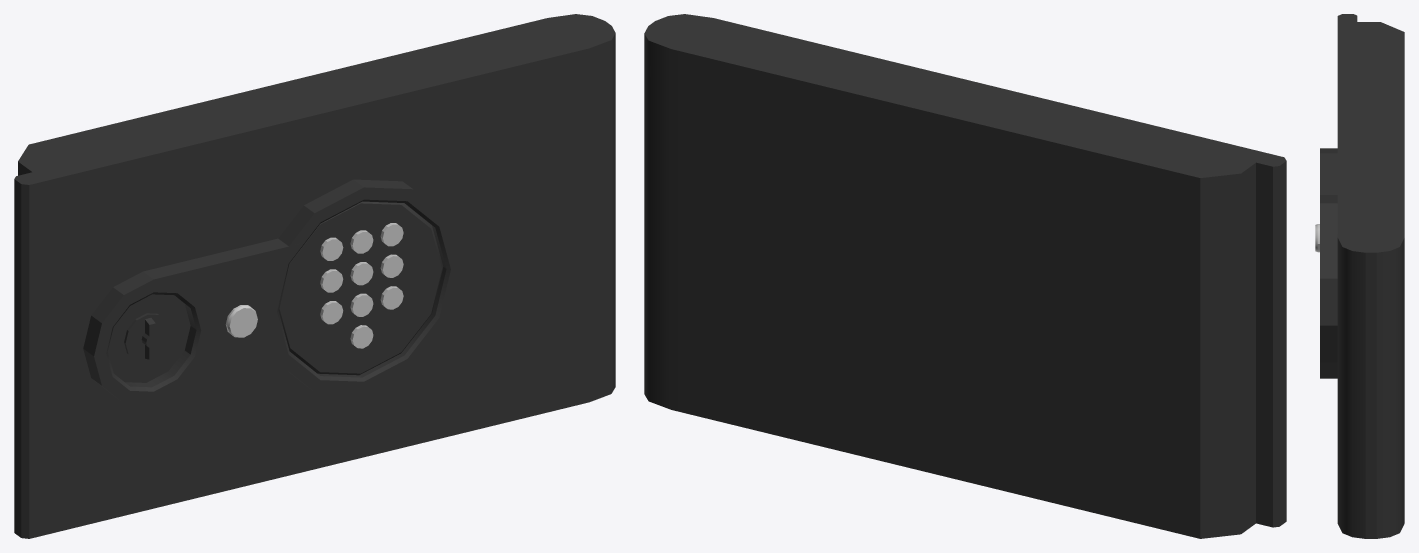
Rendered from Safe_Door.fbx.
3 renders of one model, left to right at view 1: azimuth 30°, elevation 25°; view 2: azimuth 150°, elevation 25°; view 3: azimuth 270°, elevation 25°, orthographic. The views are drawn at different scales.
Parts seen in each view (by area): view 1: pasted__pCube2, pasted__pPipe1, pasted__pCylinder1, pasted__pPipe2, pasted__pCylinder2, pasted__pCylinder16; view 2: pasted__pCube2; view 3: pasted__pCube2, pasted__pPipe2, pasted__pPipe1, pasted__pCylinder16.
Part boxes in pixels (x1,y1,x2,y2): pasted__pCube2: (14,14,615,538); pasted__pPipe1: (83,238,300,404); pasted__pCylinder1: (278,201,443,375); pasted__pPipe2: (275,179,462,393); pasted__pCylinder2: (107,294,190,382); pasted__pCylinder16: (225,305,257,337); pasted__pCube2: (644,14,1286,538); pasted__pCube2: (1337,14,1404,538); pasted__pPipe2: (1320,195,1337,378); pasted__pPipe1: (1320,148,1337,194); pasted__pCylinder16: (1315,224,1319,252).
Bounding box in the file's own units: 1.42 × 0.7951 × 0.2255.
